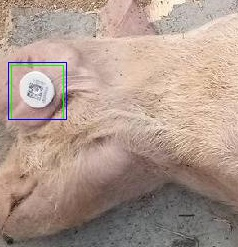text: (11, 65, 63, 119)
